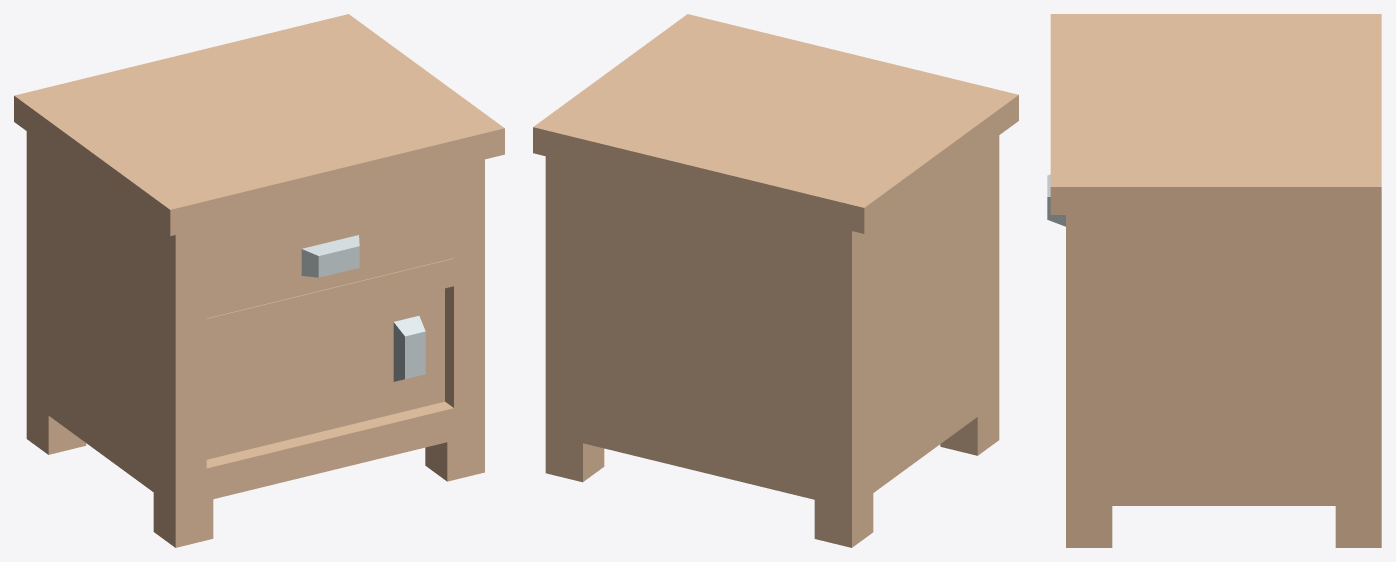
Rendered from cabinet_bed_drawer$col.glb.
3 renders of one model, left to right at view 1: azimuth 30°, elevation 25°; view 2: azimuth 150°, elevation 25°; view 3: azimuth 270°, elevation 25°, orthographic. The views are drawn at different scales.
Parts seen in each view (by area): view 1: cabinetBedDrawer(Clone)$col, door$col, drawer$col; view 2: cabinetBedDrawer(Clone)$col; view 3: cabinetBedDrawer(Clone)$col.
Boxes of the visible parts, bbox=[...] form: cabinetBedDrawer(Clone)$col: bbox=[14, 14, 504, 547]; door$col: bbox=[206, 288, 444, 459]; drawer$col: bbox=[206, 192, 453, 318]; cabinetBedDrawer(Clone)$col: bbox=[533, 14, 1018, 547]; cabinetBedDrawer(Clone)$col: bbox=[1050, 14, 1381, 547].
Bounding box in the file's own units: 0.266 × 0.2632 × 0.2173.
